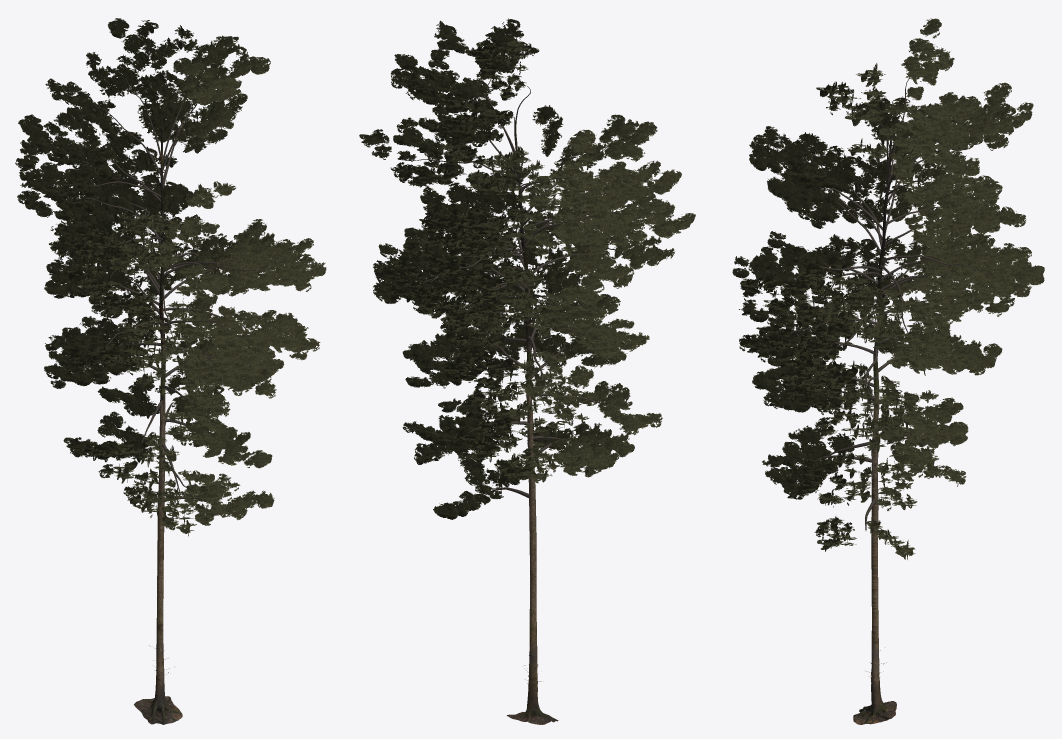
Rendered from scots_pine_a.glb.
3 renders of one model, left to right at view 1: azimuth 30°, elevation 25°; view 2: azimuth 150°, elevation 25°; view 3: azimuth 270°, elevation 25°, orthographic. The views are drawn at different scales.
Parts seen in each view (by area): view 1: scots_pine_a_LOD0; view 2: scots_pine_a_LOD0; view 3: scots_pine_a_LOD0.
Part boxes in pixels (x1=…): scots_pine_a_LOD0: x1=15, y1=18, x2=326, y2=724; scots_pine_a_LOD0: x1=359, y1=18, x2=695, y2=724; scots_pine_a_LOD0: x1=732, y1=18, x2=1044, y2=724.
Size of what is drawn, in the model's own units: 8.01 by 20.47 by 8.55.
Materials: 2 (2 with a texture image).
